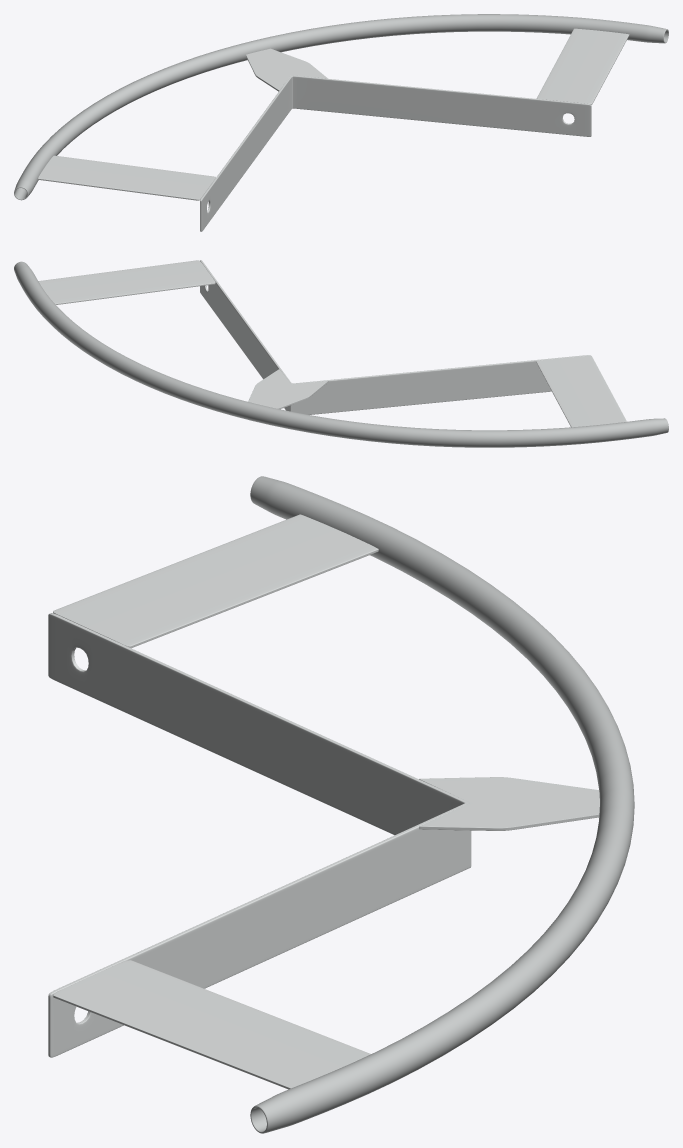
3 renders of one model, top to bottom at view 1: azimuth 30°, elevation 25°; view 2: azimuth 150°, elevation 25°; view 3: azimuth 270°, elevation 25°, orthographic. The views are drawn at different scales.
Parts seen in each view (by area): view 1: wide_angle, corner_pipe; view 2: wide_angle, corner_pipe; view 3: wide_angle, corner_pipe.
Boxes of the visible parts, x1=… form: wide_angle: x1=38, y1=28, x2=629, y2=231; corner_pipe: x1=14, y1=14, x2=668, y2=200; wide_angle: x1=38, y1=260, x2=626, y2=427; corner_pipe: x1=14, y1=261, x2=668, y2=447; wide_angle: x1=48, y1=514, x2=599, y2=1089; corner_pipe: x1=250, y1=476, x2=634, y2=1133.
Bounding box in the file's own units: 9.65 × 0.5525 × 3.74.
1 material, 1 textured.
